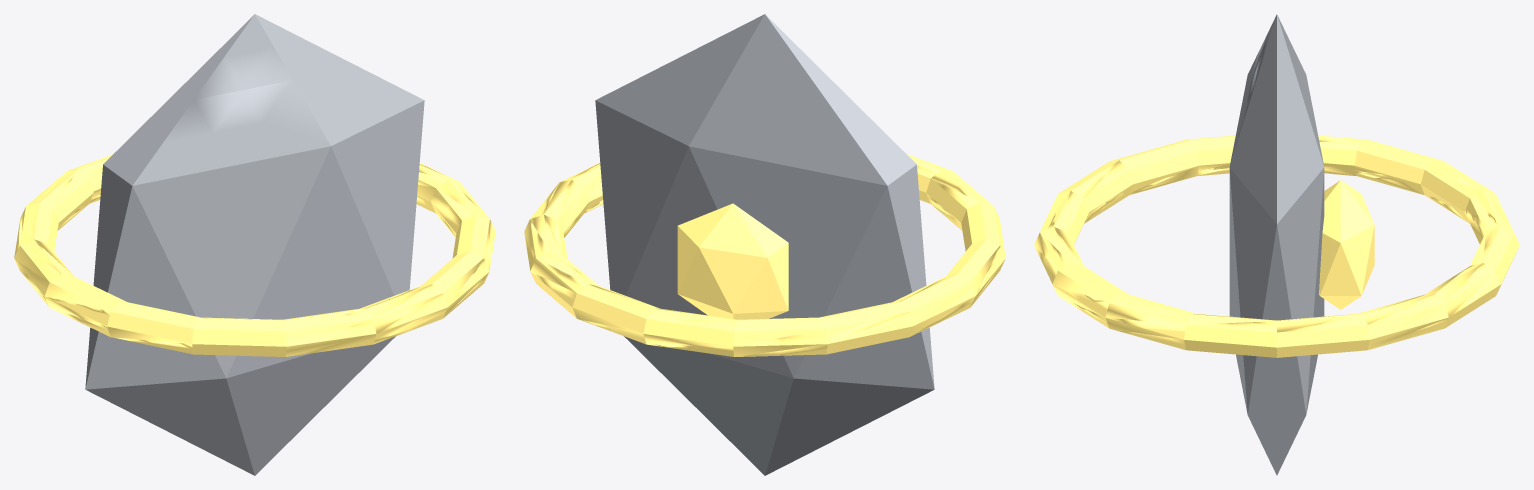
Rendered from shield.glb.
3 views of the same model, side by side, from view 1: azimuth 30°, elevation 25°; view 2: azimuth 150°, elevation 25°; view 3: azimuth 270°, elevation 25° (orthographic).
Parts seen in each view (by area): view 1: Shield; view 2: Shield; view 3: Shield.
Boxes of the visible parts, box(x1,y1,x2,y2) form: Shield: box(14, 14, 495, 475); Shield: box(524, 14, 1005, 475); Shield: box(1034, 14, 1519, 475).
Size of the model in its own units: 1.22 by 1.28 by 1.22.
